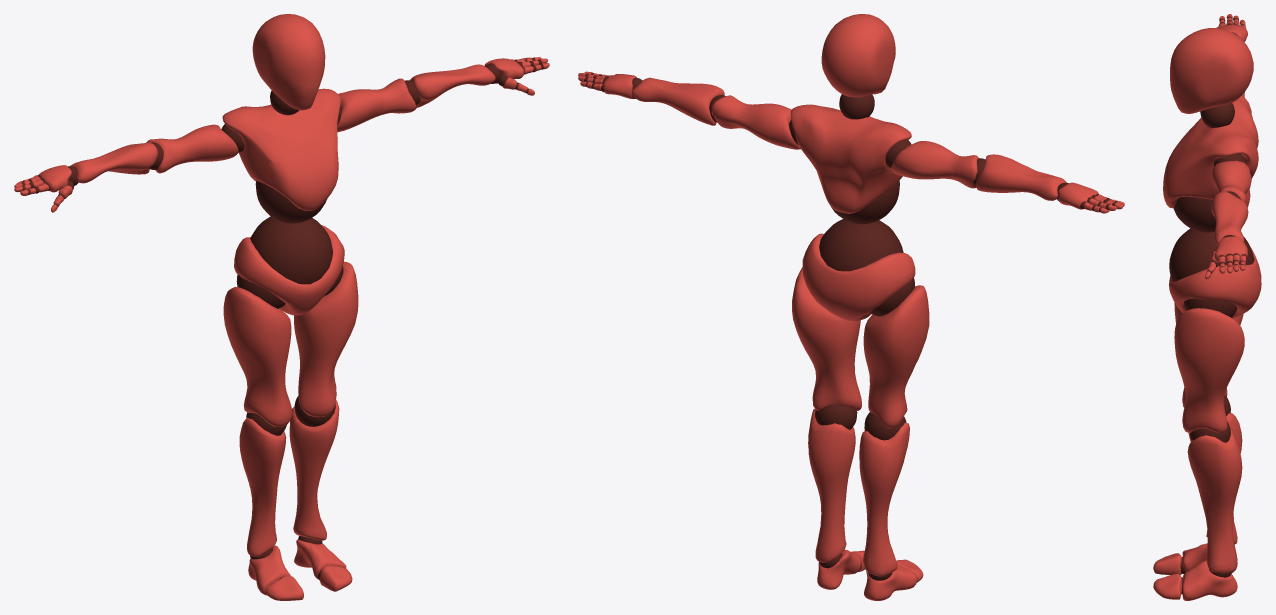
Rendered from SM_xbot.FBX.
3 renders of one model, left to right at view 1: azimuth 30°, elevation 25°; view 2: azimuth 150°, elevation 25°; view 3: azimuth 270°, elevation 25°, orthographic. The views are drawn at different scales.
Parts seen in each view (by area): view 1: SM_xbot; view 2: SM_xbot; view 3: SM_xbot.
Boxes of the visible parts, x1=… form: SM_xbot: x1=14, y1=14, x2=549, y2=600; SM_xbot: x1=578, y1=14, x2=1124, y2=600; SM_xbot: x1=1153, y1=14, x2=1261, y2=600.
Size of the model in its own units: 181 by 32.07 by 181.
